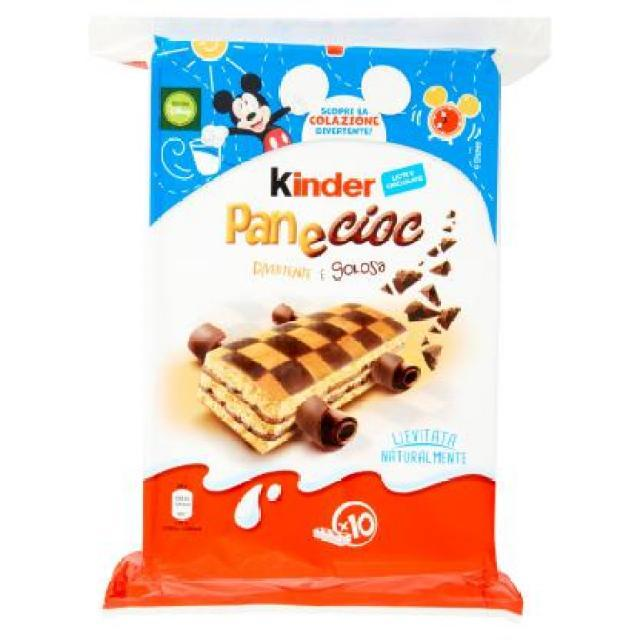Merendine: (86, 11, 534, 624)
Merendine packaged: (198, 300, 410, 458)
